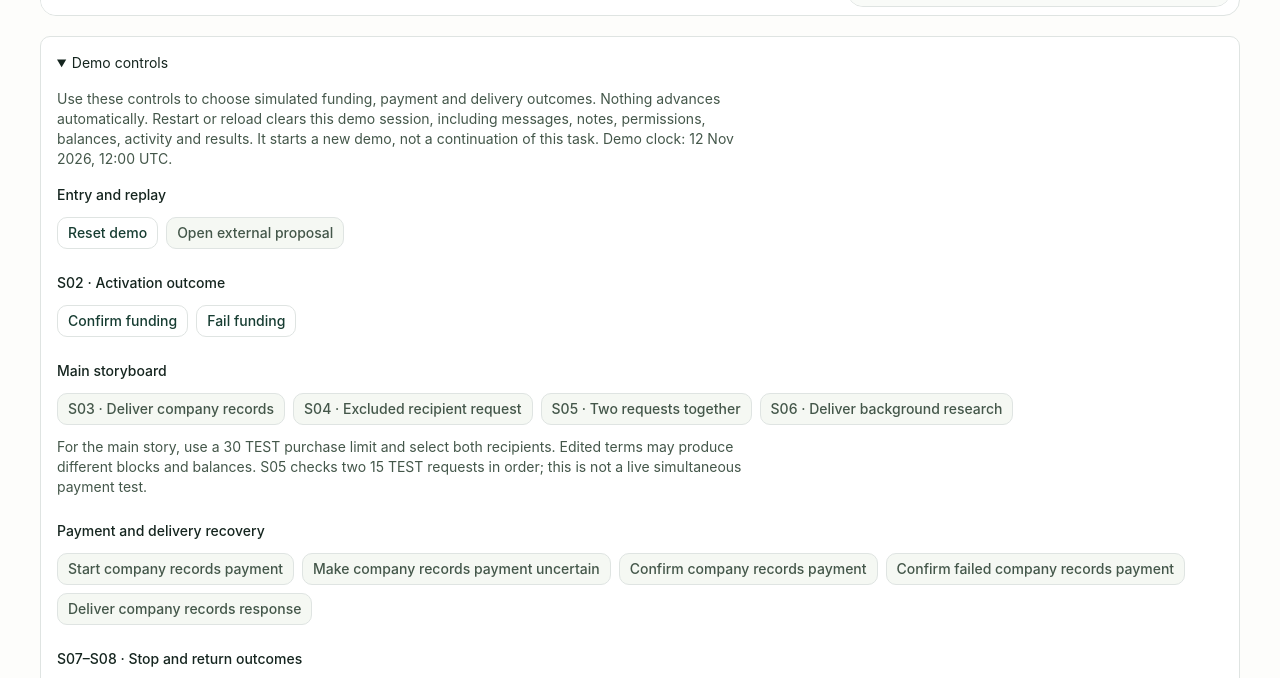
it: work block evolves only from received and pending simulation observations and keeps result readers separate
The width and height of the screenshot is (1280, 678).
Earlier steps of the test are not shown.
(page scrolled)
Click the button "Confirm funding". click: (123, 321)
box: [57,305,188,337]
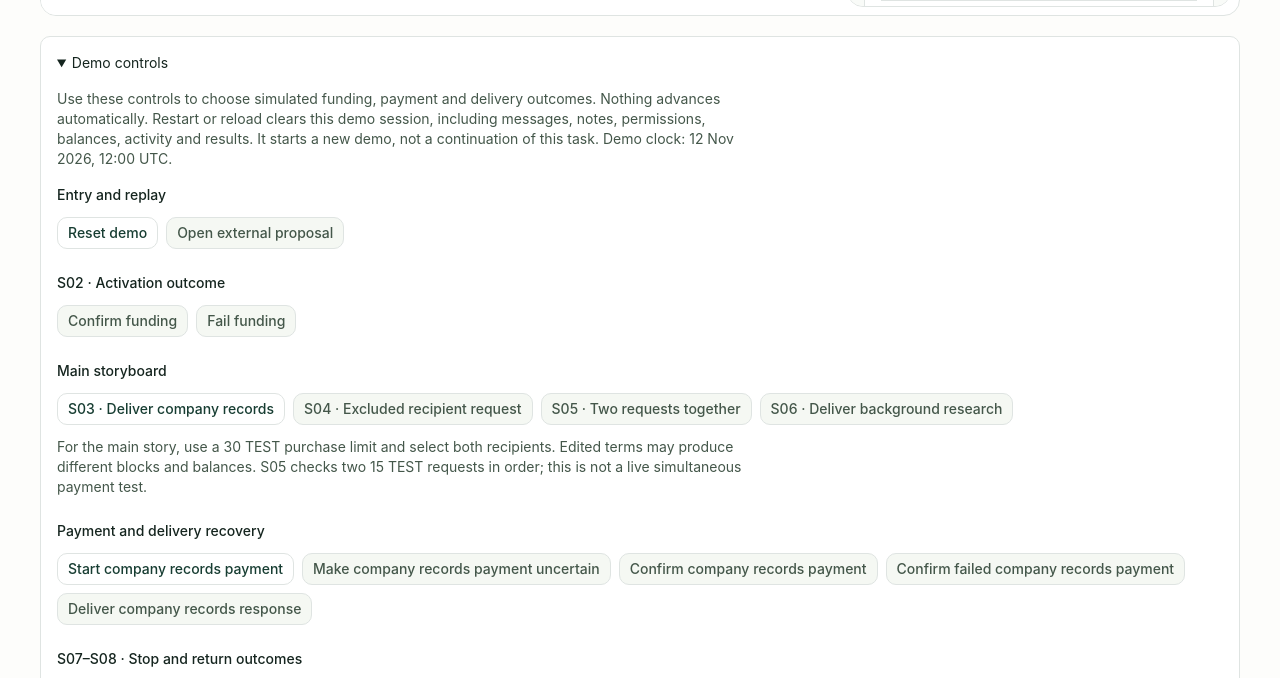
Click the button "S03 · Deliver company records". click: (171, 409)
box: [57,393,285,425]
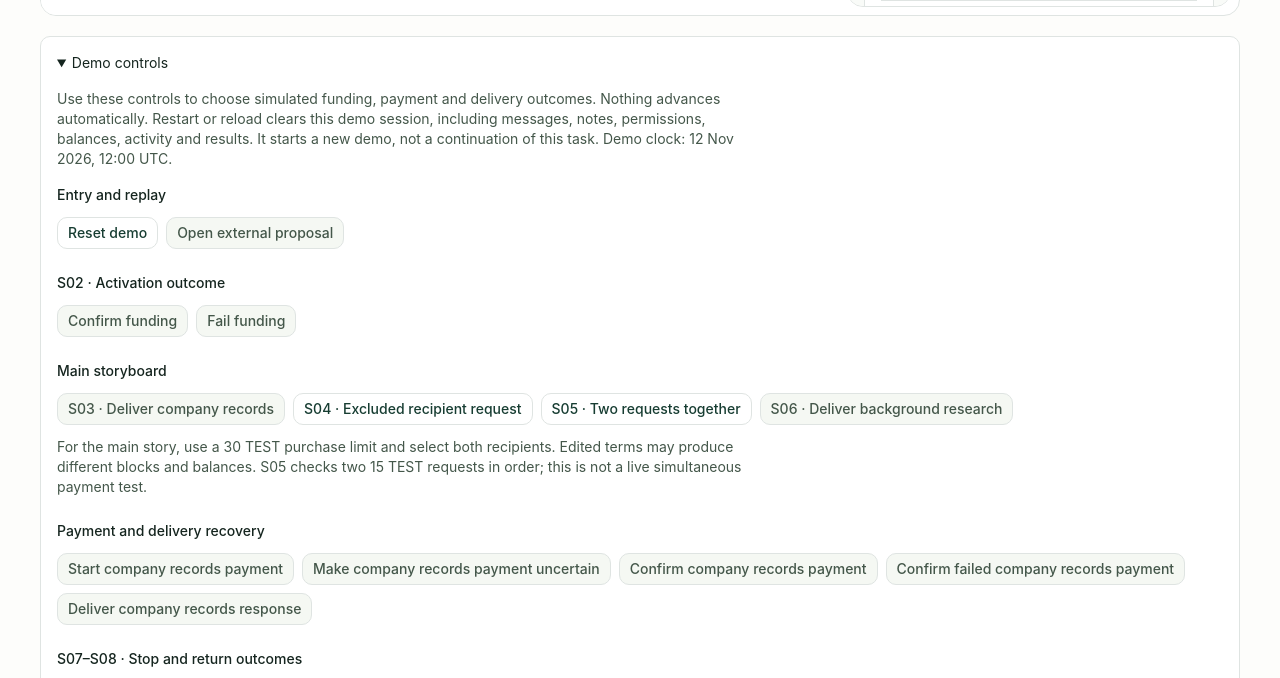
Click the button "S05 · Two requests together". click: (646, 409)
box: [541,393,752,425]
(page scrolled)
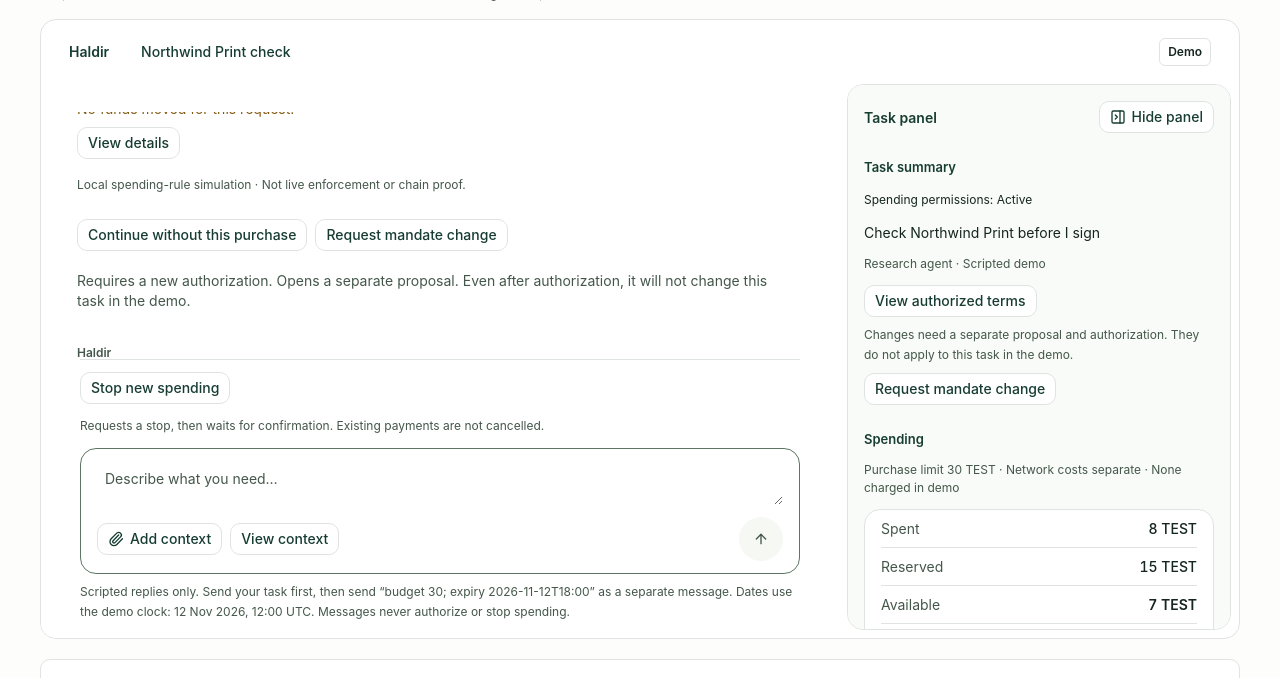
Click the button "Continue without this purchase". click: (192, 235)
box: [77,219,307,251]
(page scrolled)
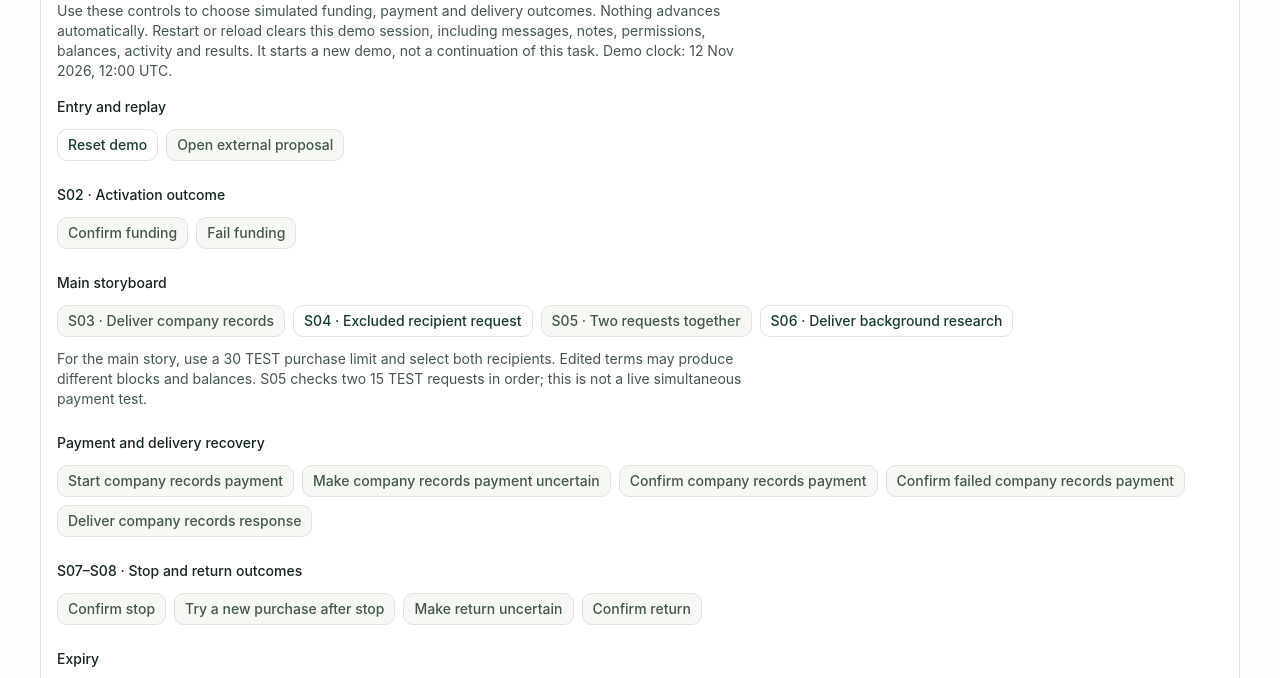
Click the button "S06 · Deliver background research". click: (887, 321)
box: [760,305,1014,337]
(page scrolled)
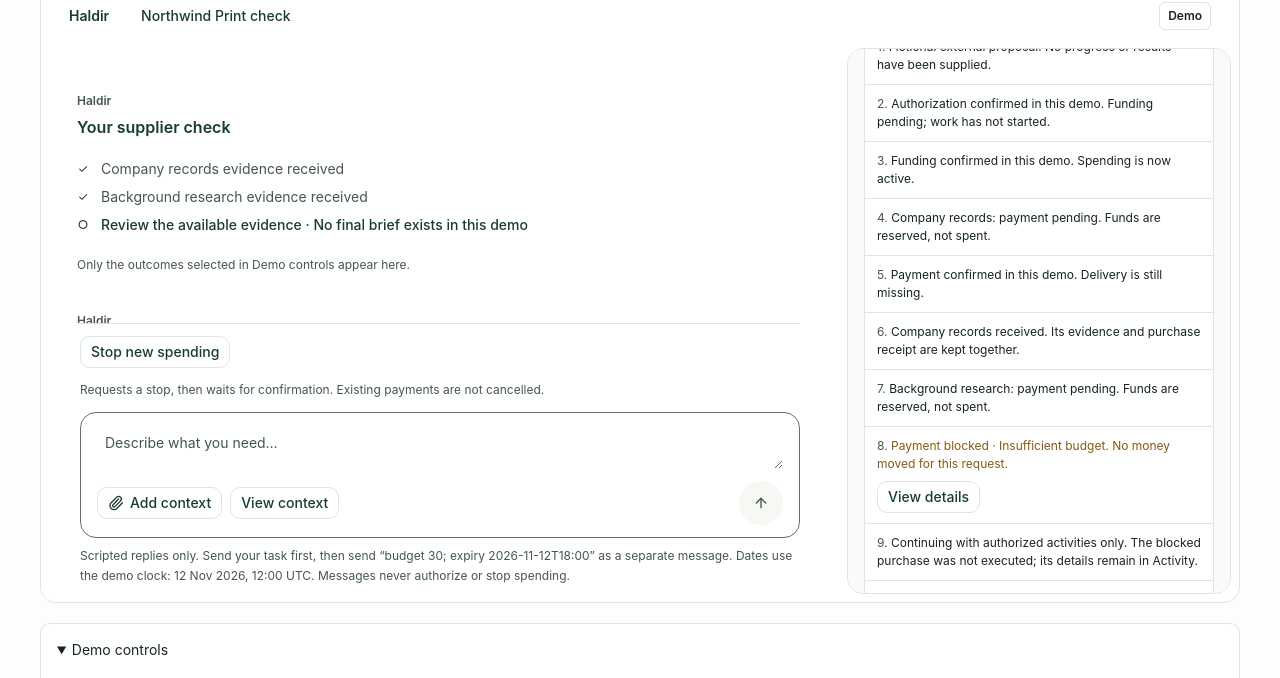
expect the element named "Agent work" shows "Background research evidence received": met, box [101,188,368,205]
expect the element named "Agent work" shows "Review the available evidence · No final brief exists in this demo": met, box [101,216,528,233]
expect the element "Activity" is shown: met, box [864,48,1214,594]
